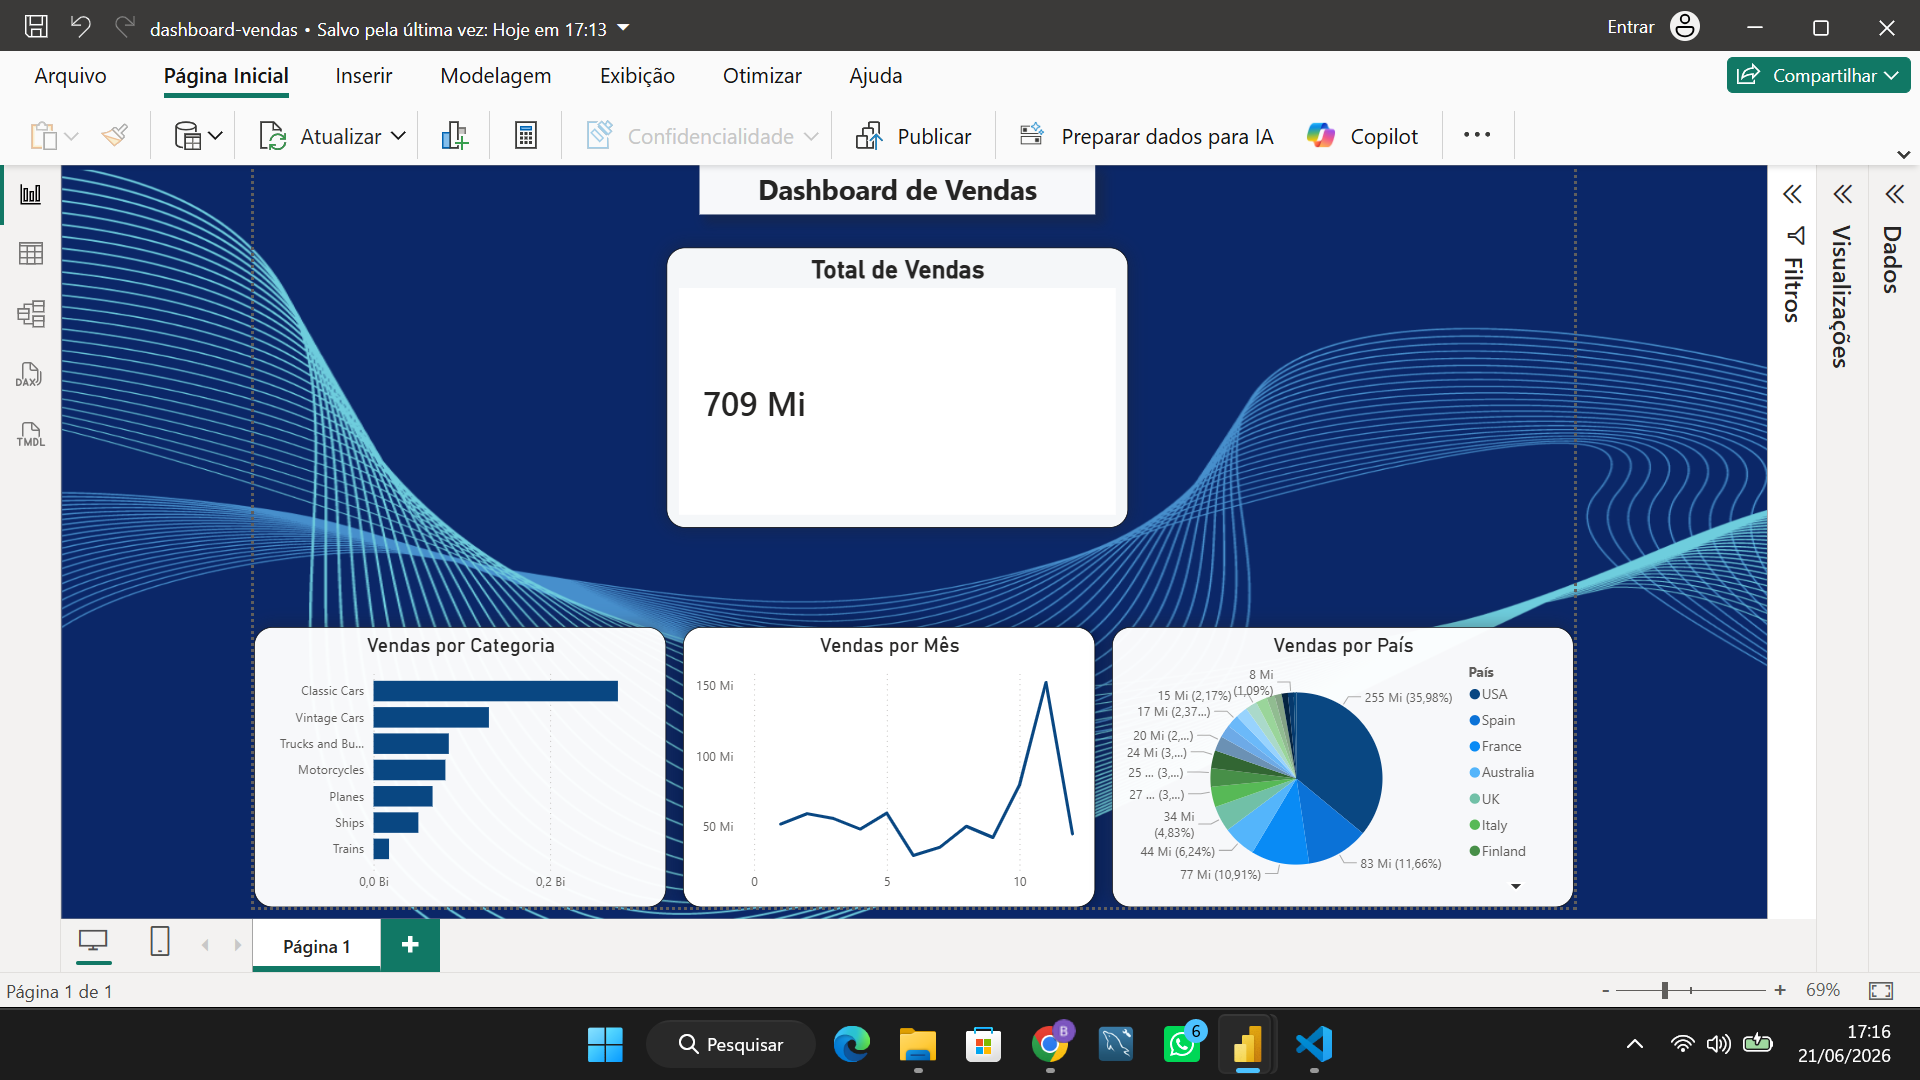

The page's visual inventory and layout, read from the dashboard file:
{"tool":"powerbi","page":{"name":"Página 1","canvas":[1280,720],"ordinal":0},"visuals":[{"type":"cardVisual","title":"Total de Vendas","fields":{"Data":["Sum(sales_data_sample.SALES)"]},"box":[400,80,448,272],"z":0},{"type":"clusteredBarChart","fields":{"Category":["sales_data_sample.PRODUCTLINE"],"Y":["Sum(sales_data_sample.SALES)"]},"box":[0,448,400,272],"z":1000},{"type":"lineChart","fields":{"Category":["sales_data_sample.MONTH_ID"],"Y":["Sum(sales_data_sample.SALES)"]},"box":[416,448,400,272],"z":2000},{"type":"pieChart","fields":{"Category":["sales_data_sample.COUNTRY"],"Y":["Sum(sales_data_sample.SALES)"]},"box":[832,448,448,272],"z":3000},{"type":"textbox","box":[432,0,384,48],"z":4000}]}

Visuals, with their boxes on the page's 1280x720 design canvas (x1, y1, x2, y2). These are canvas units, not pixel positions in the 1920x1080 screenshot, which may show the page scaled, cropped or inside an application window:
"Total de Vendas" cardVisual: locate(400, 80, 848, 352)
clusteredBarChart - sales_data_sample.PRODUCTLINE x Sum(sales_data_sample.SALES): locate(0, 448, 400, 720)
lineChart - sales_data_sample.MONTH_ID x Sum(sales_data_sample.SALES): locate(416, 448, 816, 720)
pieChart - sales_data_sample.COUNTRY x Sum(sales_data_sample.SALES): locate(832, 448, 1280, 720)
textbox: locate(432, 0, 816, 48)
